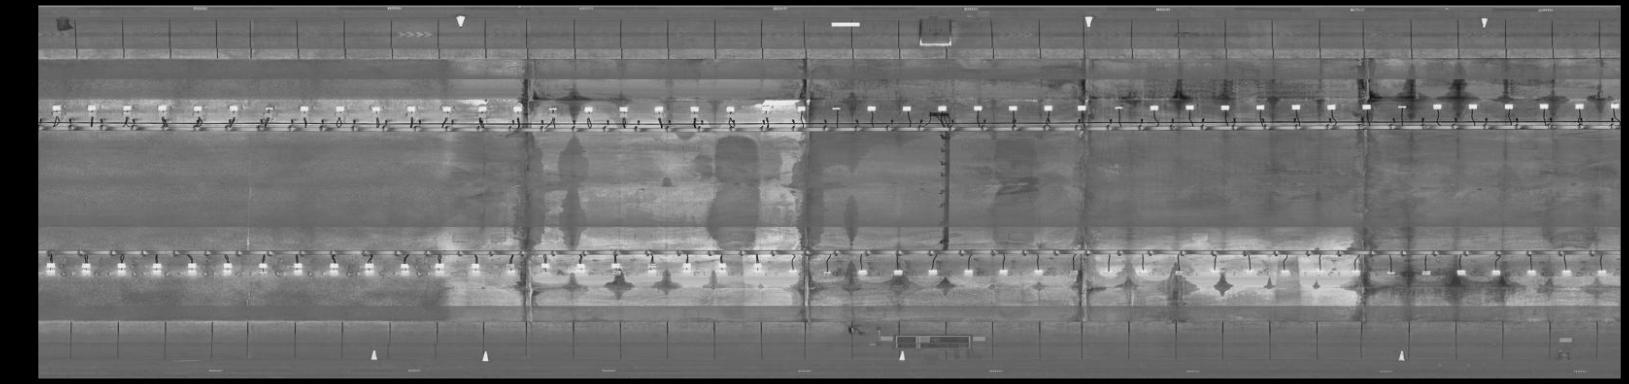light: (324, 259, 346, 280), (287, 260, 310, 279), (530, 260, 558, 275), (248, 259, 270, 277), (360, 259, 380, 278), (1591, 265, 1612, 281), (330, 99, 352, 115), (465, 260, 488, 276), (394, 262, 413, 279), (1063, 265, 1084, 281), (1415, 266, 1437, 281), (1521, 264, 1540, 281), (429, 260, 448, 278), (1216, 100, 1235, 116), (500, 263, 519, 279), (755, 101, 776, 116), (1485, 265, 1506, 279), (570, 260, 592, 275), (612, 101, 630, 118), (640, 260, 659, 277), (259, 101, 282, 114), (1273, 264, 1292, 279), (509, 101, 529, 116), (217, 260, 237, 276), (435, 103, 456, 117), (181, 260, 202, 275), (1167, 266, 1189, 279), (152, 103, 173, 116), (474, 102, 490, 119), (959, 266, 978, 281), (746, 262, 765, 277), (605, 260, 623, 276), (41, 260, 59, 276), (148, 260, 166, 276), (1133, 265, 1153, 279), (76, 262, 96, 276), (1449, 268, 1470, 281), (365, 103, 385, 116), (1286, 99, 1303, 115), (1463, 99, 1480, 114), (1381, 264, 1398, 279), (578, 101, 595, 116), (116, 102, 138, 114), (1097, 266, 1117, 279), (684, 103, 703, 116), (47, 101, 66, 114), (295, 101, 312, 116), (1321, 100, 1339, 114), (995, 265, 1013, 279), (721, 102, 739, 116), (1073, 101, 1092, 114), (852, 266, 871, 279), (896, 101, 914, 114), (401, 101, 420, 114), (109, 260, 131, 272), (923, 267, 942, 279), (1357, 99, 1373, 113), (1029, 265, 1045, 279), (678, 259, 693, 276), (1393, 100, 1411, 113), (187, 103, 206, 115), (1559, 265, 1575, 279), (649, 104, 665, 118), (1142, 102, 1161, 113), (225, 101, 242, 114), (1180, 102, 1199, 113), (968, 101, 987, 112), (1535, 100, 1550, 114), (1040, 101, 1056, 114), (714, 260, 729, 274), (1571, 100, 1587, 112), (1428, 100, 1445, 112), (1252, 102, 1269, 114), (1206, 263, 1223, 275), (1240, 265, 1260, 275), (1004, 102, 1021, 113), (890, 267, 905, 280), (545, 103, 560, 116), (83, 101, 98, 114), (1346, 266, 1363, 277), (1312, 265, 1329, 276), (863, 104, 881, 114), (818, 268, 834, 278), (791, 104, 807, 114), (1502, 100, 1516, 112), (783, 267, 799, 277), (934, 103, 951, 112), (1605, 100, 1619, 111), (829, 104, 844, 114), (1111, 103, 1126, 112)
